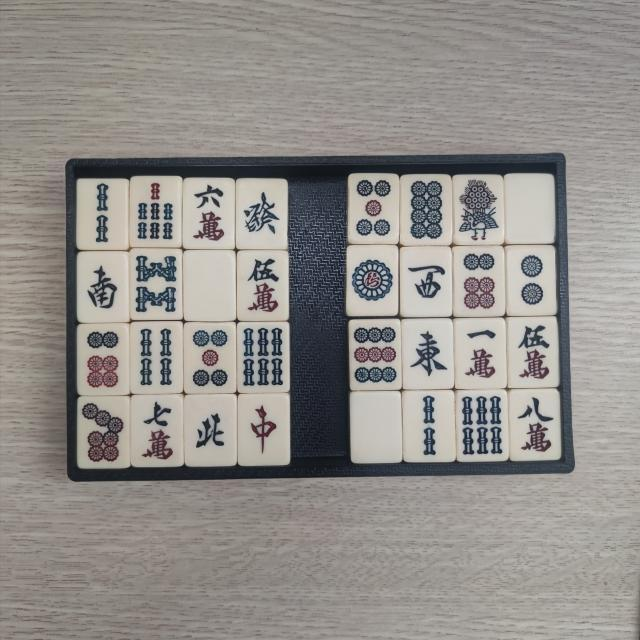hdg: (242, 183, 284, 244)
hdr: (244, 398, 284, 461)
hdw: (188, 254, 232, 316), (358, 398, 398, 458), (510, 178, 550, 238)
hwe: (406, 325, 449, 386)
hwn: (191, 399, 232, 461)
hws: (82, 256, 125, 318)
hww: (404, 251, 448, 313)
sb1: (456, 178, 501, 244)
sb2: (82, 181, 125, 246), (408, 394, 450, 459)
sb4: (134, 326, 178, 390)
sb6: (242, 326, 288, 388), (462, 395, 504, 458)
sb7: (134, 178, 178, 242)
sb8: (134, 252, 178, 318)
sc1: (461, 322, 503, 383)
sc5: (513, 321, 554, 384), (242, 254, 282, 317)
sc6: (188, 182, 230, 245)
sc7: (136, 398, 180, 464)
sc8: (513, 394, 556, 457)
sd1: (350, 250, 394, 312)
sd2: (511, 252, 551, 312)
sd5: (190, 326, 232, 389), (352, 178, 394, 240)
sd6: (83, 328, 125, 391), (457, 251, 499, 313)
sd7: (82, 400, 127, 464)
sd8: (405, 178, 448, 240)
sd9: (352, 323, 398, 385)
